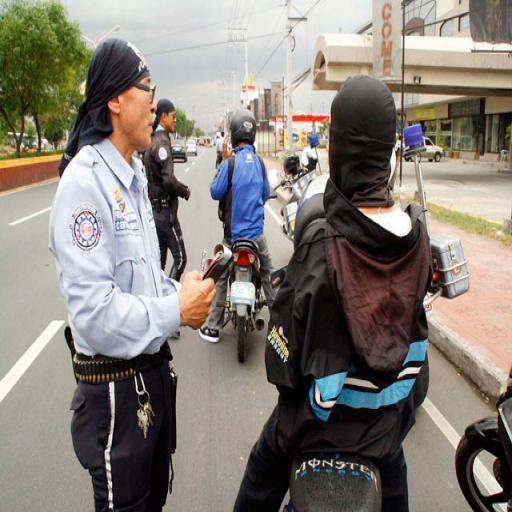helmet: (205, 98, 282, 356)
no helmet: (304, 50, 426, 512)
